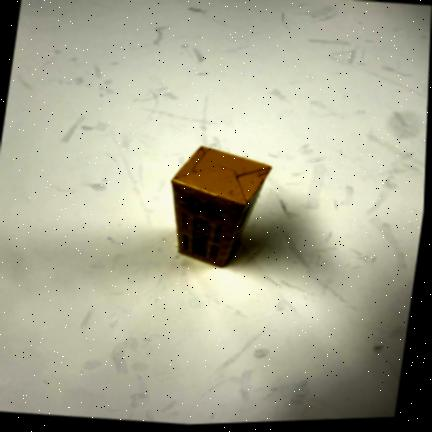gum_yellow: (172, 147, 271, 267)
